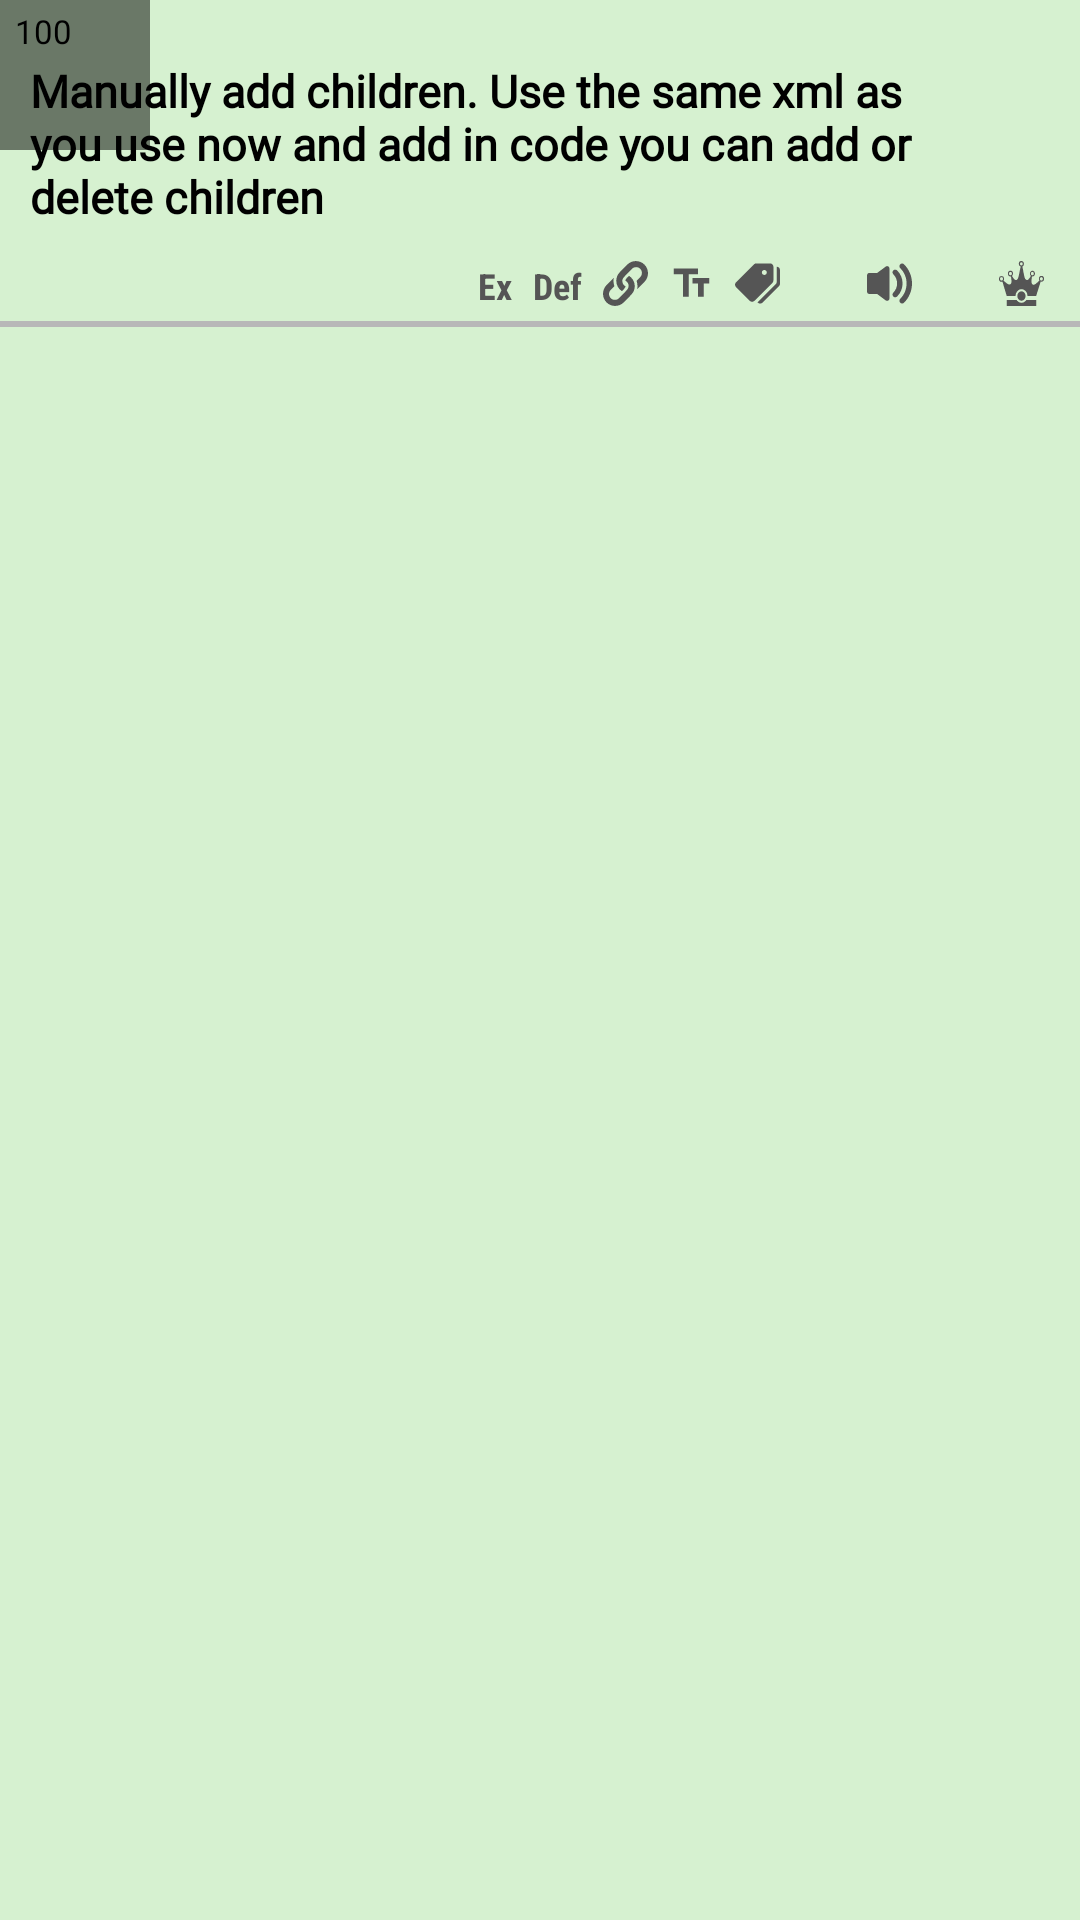

Icon click points for this 1080 × 1920 phone screenshot, format point (x, y):
audio speaker on: point (889, 283)
master word: point (1021, 283)
tag: point (757, 283)
text fields: point (691, 282)
url: point (625, 283)
